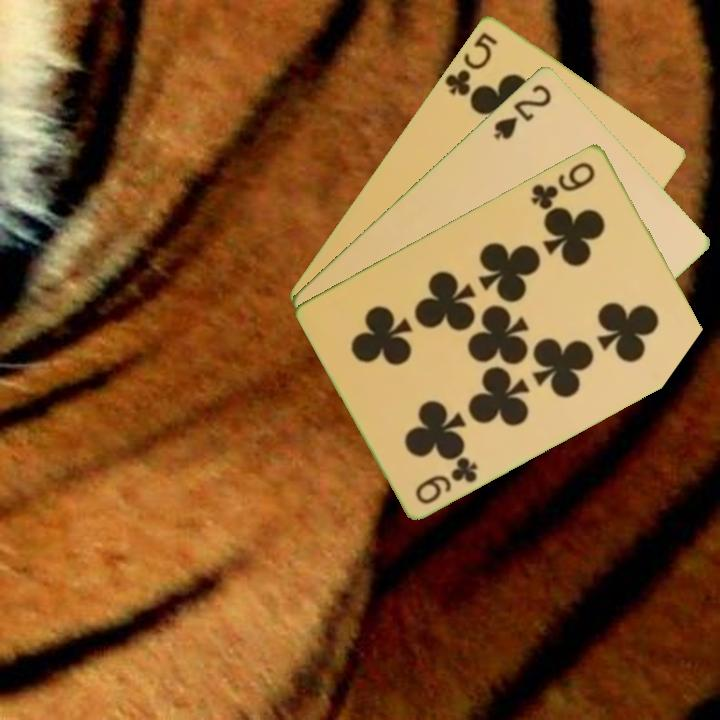2s: (490, 80, 555, 143)
5c: (441, 28, 501, 100)
9c: (528, 157, 599, 212), (412, 452, 481, 507)
